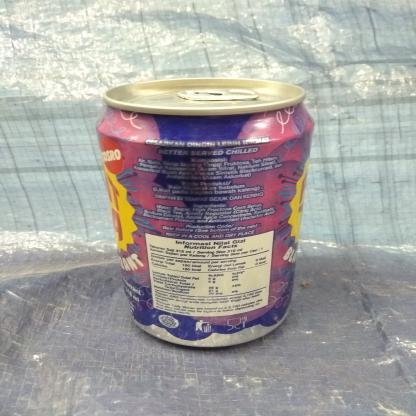can: (93, 74, 319, 354)
